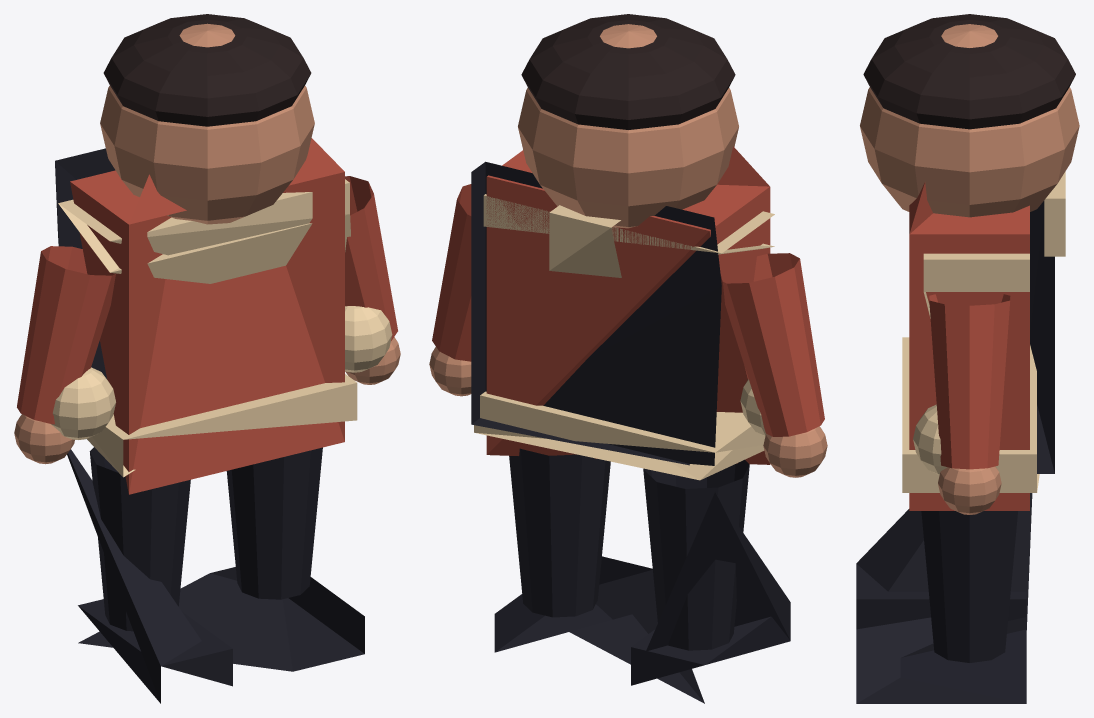
Rendered from Monk_Male.obj.
The picture shows the model from 3 angles, left to right: view 1: azimuth 30°, elevation 25°; view 2: azimuth 150°, elevation 25°; view 3: azimuth 270°, elevation 25°; orthographic projection. The views are drawn at different scales.
Parts seen in each view (by area): view 1: Monk_Male; view 2: Monk_Male; view 3: Monk_Male.
Part boxes in pixels (x1=…): Monk_Male: x1=14, y1=14, x2=400, y2=703; Monk_Male: x1=429, y1=14, x2=827, y2=703; Monk_Male: x1=856, y1=14, x2=1079, y2=703.
Size of the model in its own units: 1.26 by 1.93 by 0.63.
